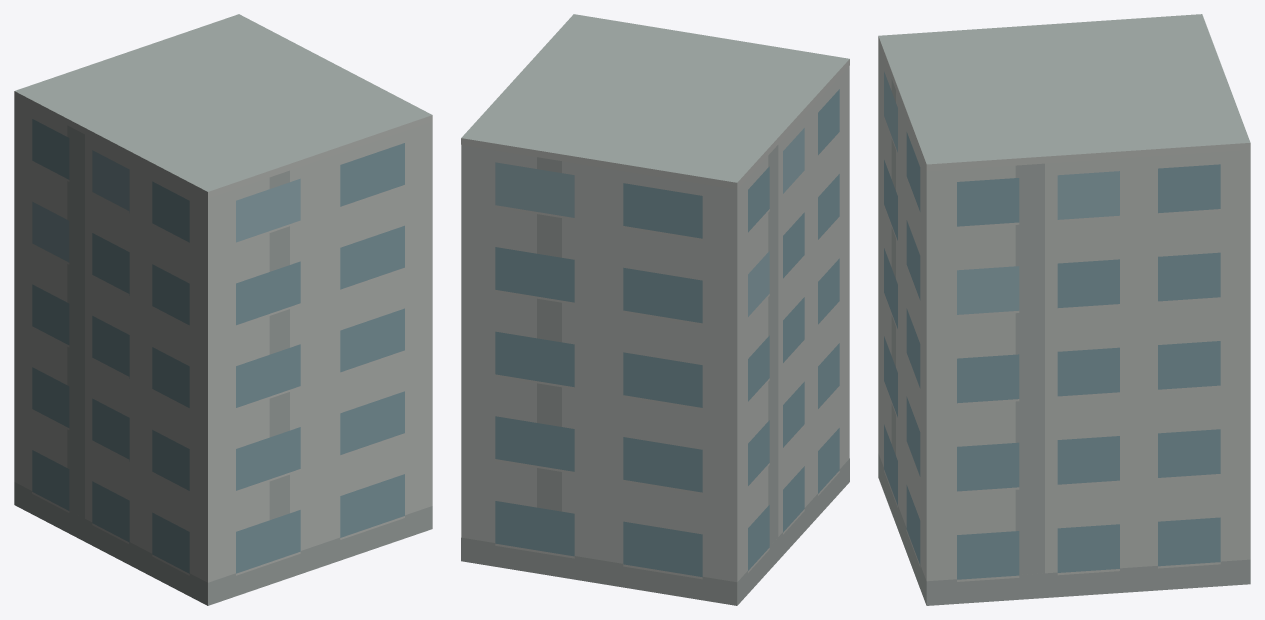
The model's file is residential-d01e7f2e-19ab-40a8-b03f-4eece2b0470c.glb.
3 renders of one model, left to right at view 1: azimuth 30°, elevation 25°; view 2: azimuth 150°, elevation 25°; view 3: azimuth 270°, elevation 25°, orthographic. The views are drawn at different scales.
Visible parts, largest first — view 1: residential-d01e7f2e-19ab-40a8-b03f-4eece2b0470c.tmp; view 2: residential-d01e7f2e-19ab-40a8-b03f-4eece2b0470c.tmp; view 3: residential-d01e7f2e-19ab-40a8-b03f-4eece2b0470c.tmp.
Part boxes in pixels (box(x1,y1,x2,y2)): residential-d01e7f2e-19ab-40a8-b03f-4eece2b0470c.tmp: box(14, 14, 432, 605); residential-d01e7f2e-19ab-40a8-b03f-4eece2b0470c.tmp: box(461, 14, 849, 605); residential-d01e7f2e-19ab-40a8-b03f-4eece2b0470c.tmp: box(878, 14, 1250, 605).
Bounding box in the file's own units: 11.16 × 15.25 × 11.67.
